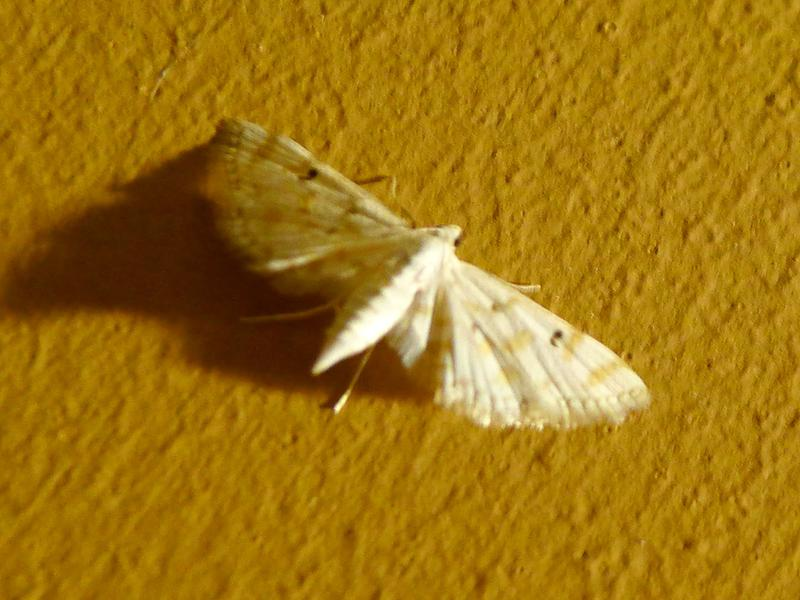Rice_case_worm: (130, 100, 645, 463)
